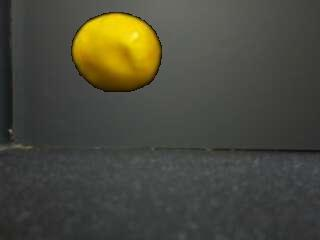Lemon: (69, 11, 165, 95)
